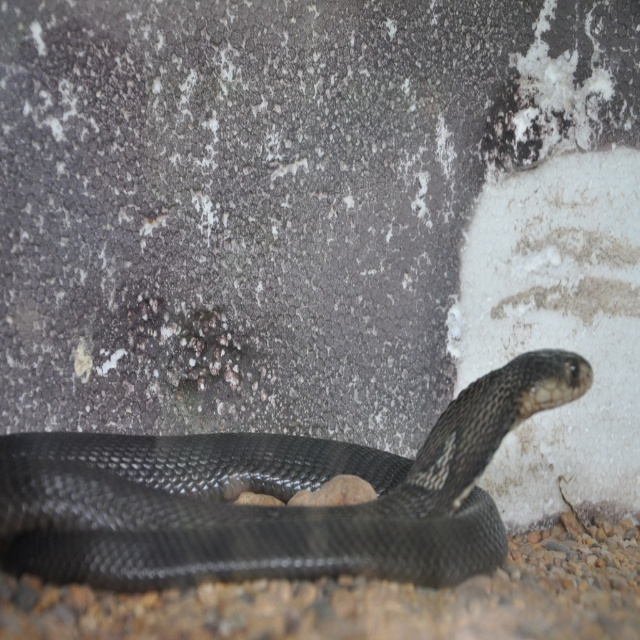Snake: (0, 349, 594, 594)
